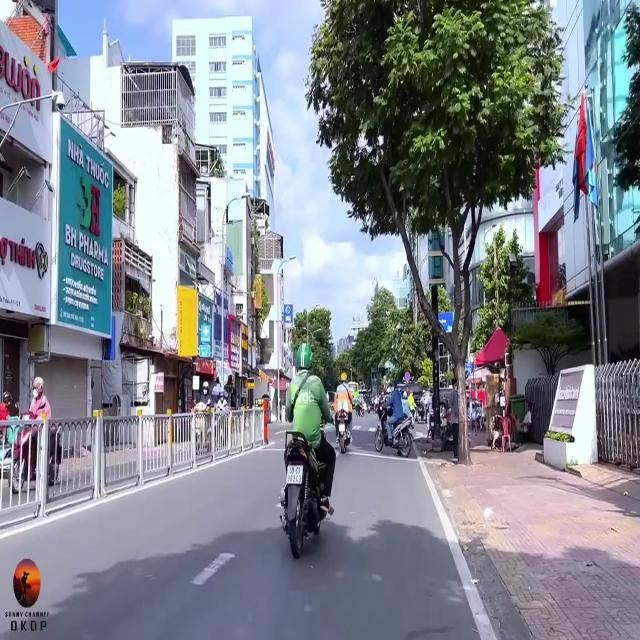bien_trang: (286, 465, 306, 483)
